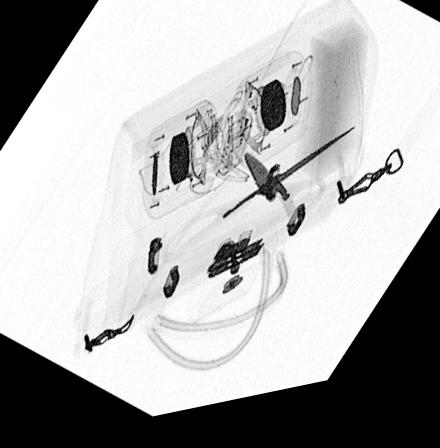Scissors: (157, 138, 357, 274)
